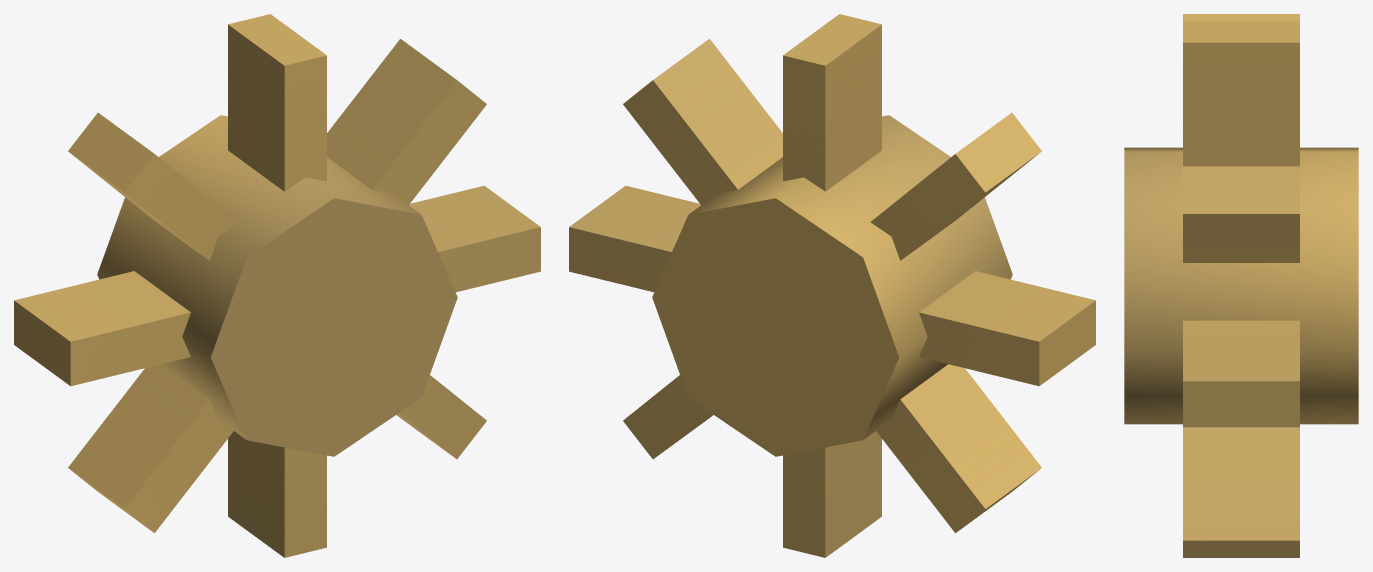
File: gear_2m.glb
3 renders of one model, left to right at view 1: azimuth 30°, elevation 25°; view 2: azimuth 150°, elevation 25°; view 3: azimuth 270°, elevation 25°, orthographic. The views are drawn at different scales.
Parts seen in each view (by area): view 1: Gear2m; view 2: Gear2m; view 3: Gear2m.
Boxes of the visible parts, x1,y1,x2,y2 form: Gear2m: (14,14,540,557); Gear2m: (569,14,1095,557); Gear2m: (1124,14,1358,557).
Bounding box in the file's own units: 1.2 × 1.2 × 0.5.
1 material, 1 textured.
